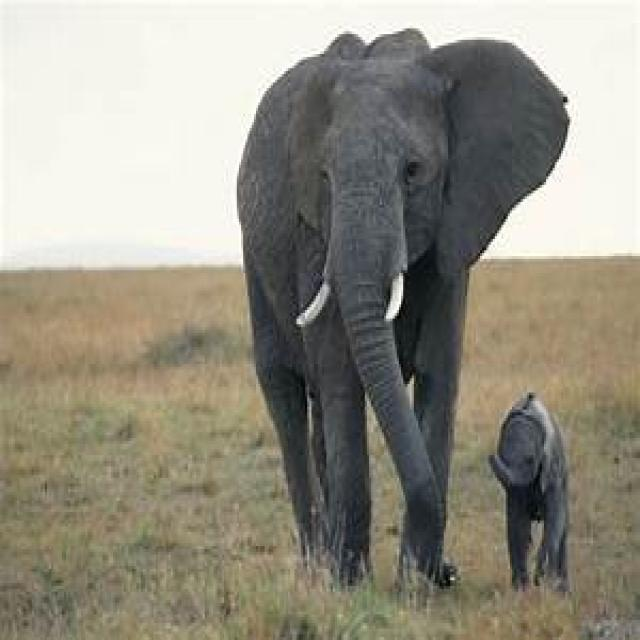elephant: (235, 28, 572, 592), (489, 393, 570, 594)
